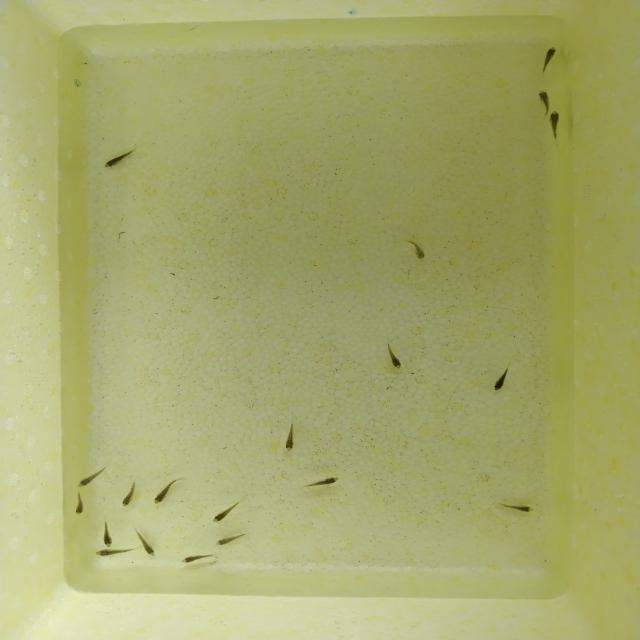fingerling: (102, 142, 143, 171), (153, 475, 187, 505), (76, 461, 113, 488), (209, 497, 243, 523), (212, 530, 256, 548), (135, 526, 159, 559), (491, 359, 514, 392), (538, 44, 560, 78), (300, 474, 343, 490), (384, 340, 405, 370), (547, 110, 563, 148), (401, 238, 428, 260), (281, 420, 298, 454), (120, 477, 138, 509), (496, 500, 536, 514), (100, 514, 115, 548), (180, 551, 219, 564), (72, 488, 86, 516), (92, 548, 126, 558), (535, 89, 552, 108)
